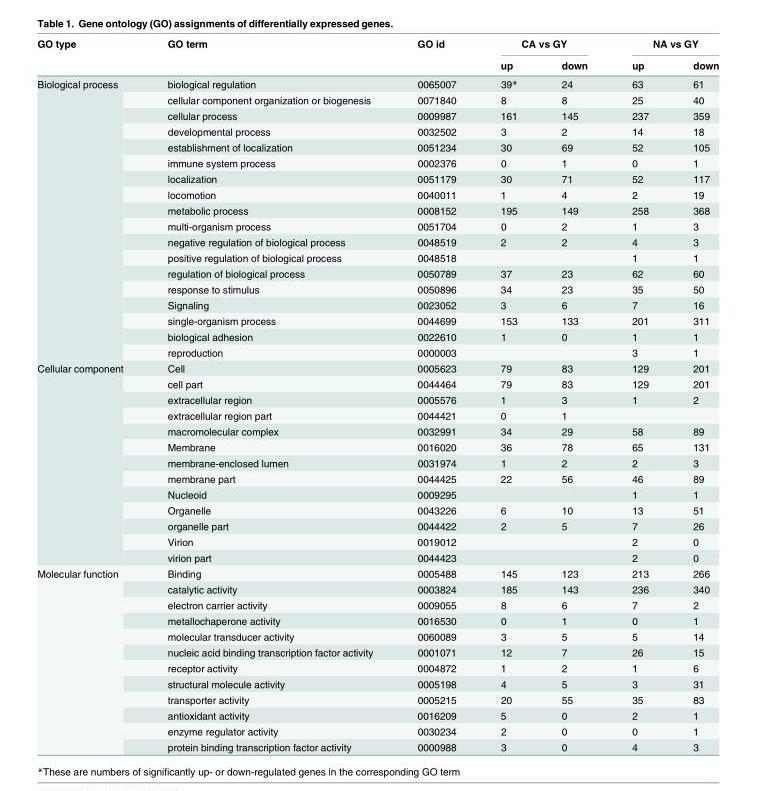table: (36, 37, 718, 752)
table column: (144, 37, 394, 752), (36, 37, 144, 752), (394, 37, 477, 752), (538, 37, 609, 752), (477, 37, 538, 752), (609, 37, 670, 752), (670, 37, 718, 752)
table column header: (36, 37, 718, 74)
table row: (36, 53, 718, 74), (36, 74, 718, 91), (36, 37, 718, 53), (36, 91, 718, 107), (36, 107, 718, 123), (36, 123, 718, 139), (36, 154, 718, 170), (36, 170, 718, 186), (36, 186, 718, 202), (36, 217, 718, 233), (36, 233, 718, 249), (36, 249, 718, 265), (36, 265, 718, 281), (36, 296, 718, 312), (36, 312, 718, 328), (36, 328, 718, 344), (36, 359, 718, 375), (36, 375, 718, 391), (36, 391, 718, 407), (36, 407, 718, 423), (36, 438, 718, 454), (36, 454, 718, 470), (36, 470, 718, 486), (36, 486, 718, 502), (36, 517, 718, 533), (36, 533, 718, 549), (36, 549, 718, 565), (36, 580, 718, 596), (36, 596, 718, 612), (36, 612, 718, 628), (36, 628, 718, 644), (36, 659, 718, 675), (36, 675, 718, 691), (36, 691, 718, 707), (36, 707, 718, 723), (36, 139, 718, 154), (36, 202, 718, 217), (36, 281, 718, 296), (36, 344, 718, 359), (36, 423, 718, 438), (36, 502, 718, 517), (36, 565, 718, 580), (36, 644, 718, 659), (36, 723, 718, 738), (36, 738, 718, 752)
table spanning cell: (36, 74, 144, 359), (36, 359, 144, 565), (36, 565, 144, 752), (144, 37, 394, 74), (36, 37, 144, 74), (394, 37, 477, 74), (477, 37, 609, 53), (609, 37, 718, 53)
